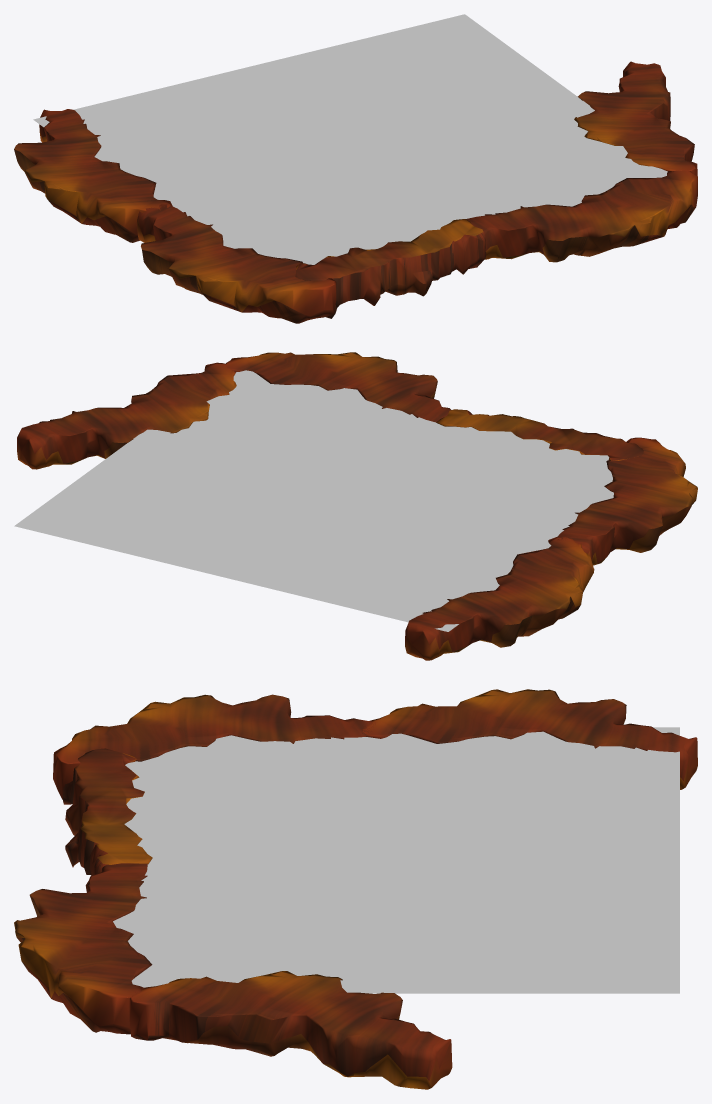
File: LV3Floor.fbx
3 renders of one model, top to bottom at view 1: azimuth 30°, elevation 25°; view 2: azimuth 150°, elevation 25°; view 3: azimuth 270°, elevation 25°, orthographic. The views are drawn at different scales.
Visible parts, largest first — view 1: RockWalkway_14; view 2: RockWalkway_14; view 3: RockWalkway_14.
Part boxes in pixels (x1,y1,x2,y2): RockWalkway_14: (14, 14, 697, 323); RockWalkway_14: (14, 352, 697, 660); RockWalkway_14: (14, 689, 697, 1089).
Size of the model in its own units: 394 by 24.72 by 314.
